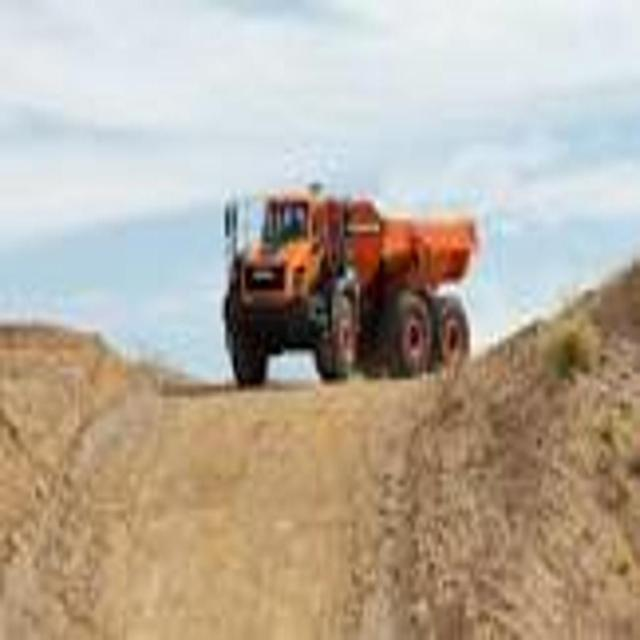dump_truck: (209, 162, 482, 394)
